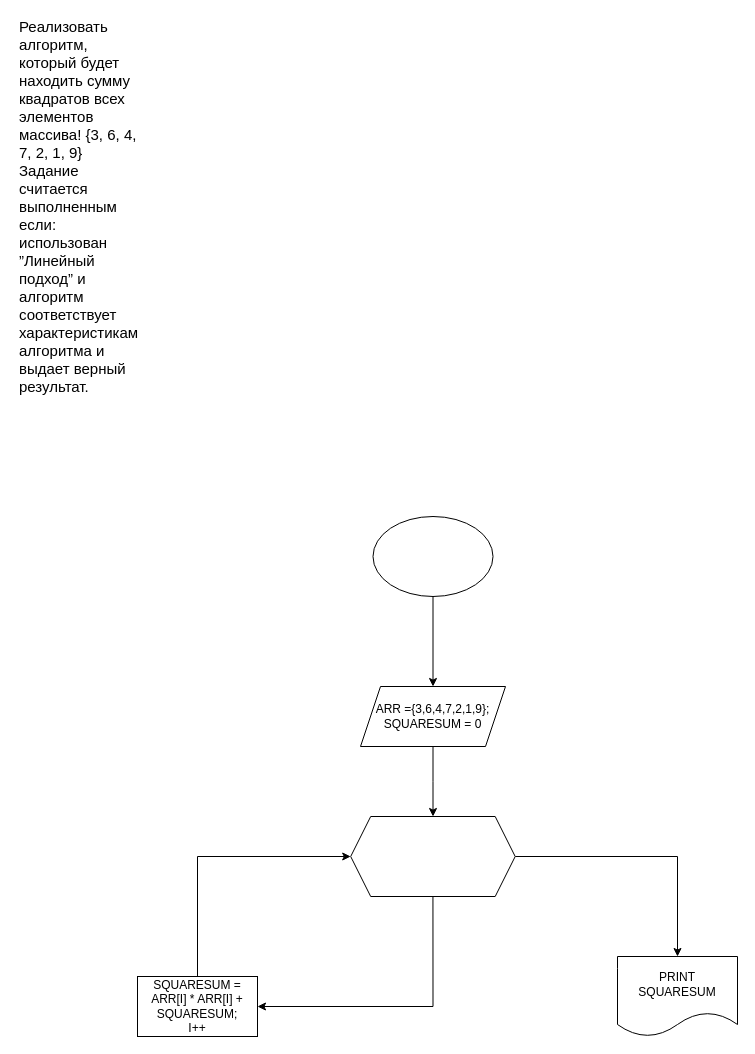
Some shapes in this 755 by 1054 pixel diagram are drawn without their labels. The shapes that lost their labels are listed below. From the top down, each one's centre as x and y in pixels, then its label:
At (432,556): "START".
At (432,856): "I = 0, I < ARR.LENGTH".
